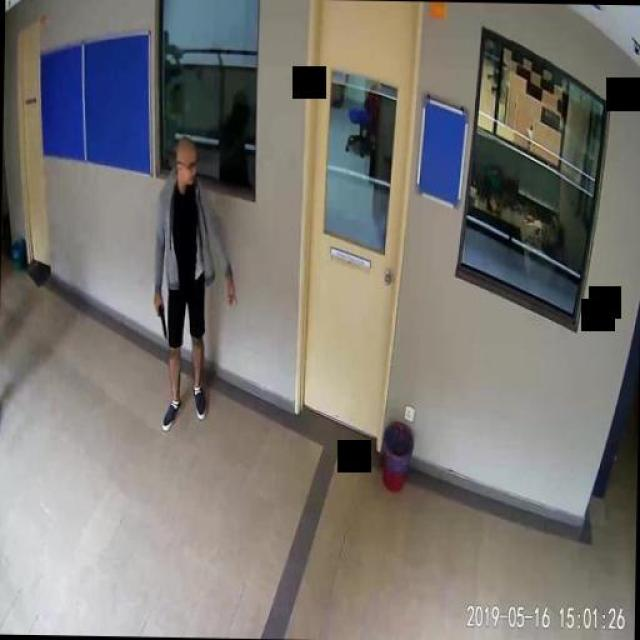gun: (152, 294, 166, 338)
